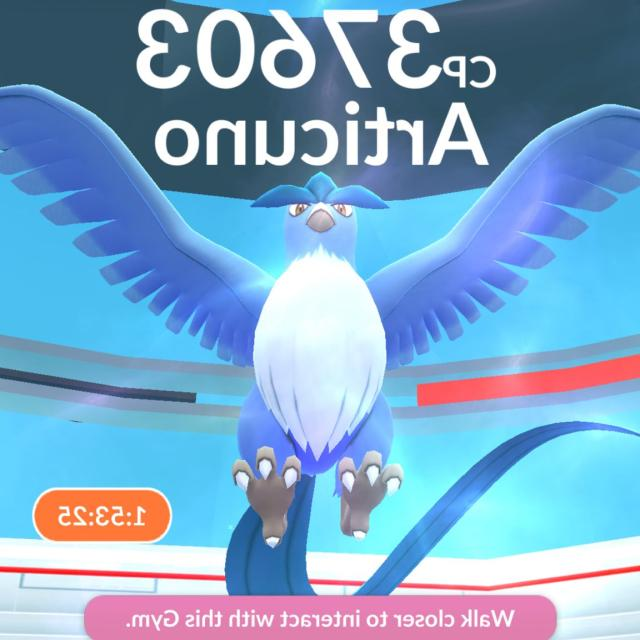Articuno: (154, 165, 471, 551)
